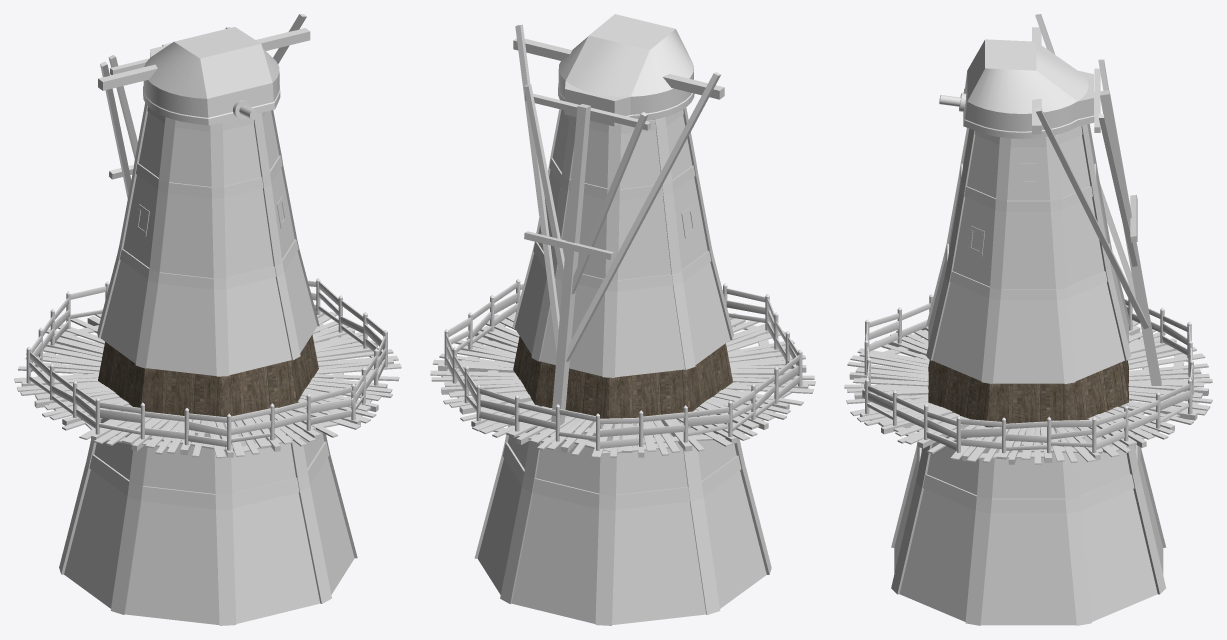
The model's file is Moulin_Base.fbx.
3 views of the same model, side by side, from view 1: azimuth 30°, elevation 25°; view 2: azimuth 150°, elevation 25°; view 3: azimuth 270°, elevation 25° (orthographic). The views are drawn at different scales.
Parts seen in each view (by area): view 1: toit_low, c_low.008, Cylinder.006, f_low.019, c_low.003, f_low.018, f_low.004, b_low.003, e_low.004, pillierdeux_low.003, c_low.005, f_low.005 (+26 smaller); view 2: toit_low, c_low.007, f_low.017, Cylinder.006, c_low.002, f_low.018, Cube.038, Cube.034, b_low.002, Cube.039, c_low.006, f_low.006 (+26 smaller); view 3: toit_low, f_low.016, Cylinder.006, c_low.005, c_low.006, f_low.007, e_low.007, c_low.004, c_low.001, pillierdeux_low, pilierun_low.001, e_low.008 (+25 smaller).
Part boxes in pixels (x1,y1,x2,y2): toit_low: [143, 27, 280, 125]; c_low.008: [125, 501, 219, 625]; Cylinder.006: [98, 334, 318, 417]; f_low.019: [232, 492, 320, 623]; c_low.003: [146, 283, 216, 375]; f_low.018: [64, 470, 127, 608]; f_low.004: [226, 277, 291, 375]; b_low.003: [160, 193, 213, 278]; e_low.004: [224, 188, 273, 277]; pillierdeux_low.003: [210, 122, 228, 376]; c_low.005: [310, 458, 354, 594]; f_low.005: [100, 260, 147, 363]; toit_low: [558, 14, 694, 126]; c_low.007: [612, 501, 706, 625]; f_low.017: [512, 493, 598, 623]; Cylinder.006: [513, 336, 732, 418]; c_low.002: [615, 285, 684, 377]; f_low.018: [703, 470, 766, 608]; Cube.038: [515, 24, 720, 361]; Cube.034: [551, 104, 590, 425]; b_low.002: [617, 195, 671, 279]; Cube.039: [524, 84, 648, 293]; c_low.006: [477, 458, 521, 594]; f_low.006: [540, 279, 604, 376]; toit_low: [963, 39, 1094, 138]; f_low.016: [980, 513, 1076, 625]; Cylinder.006: [928, 360, 1128, 427]; c_low.005: [899, 489, 975, 621]; c_low.006: [1081, 489, 1157, 621]; f_low.007: [993, 300, 1064, 383]; e_low.007: [1001, 211, 1055, 289]; c_low.004: [932, 282, 988, 381]; c_low.001: [1068, 282, 1124, 380]; pillierdeux_low: [981, 137, 1011, 383]; pilierun_low.001: [1046, 135, 1075, 383]; e_low.008: [992, 427, 1065, 498].
Size of the model in its own units: 1008 by 1553 by 1008.
